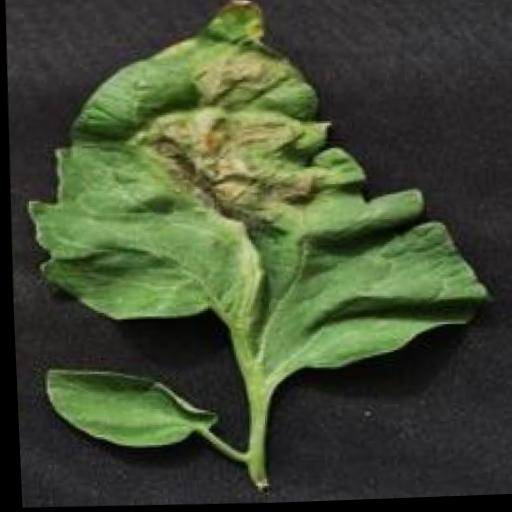Late Blight: (10, 0, 510, 480)
